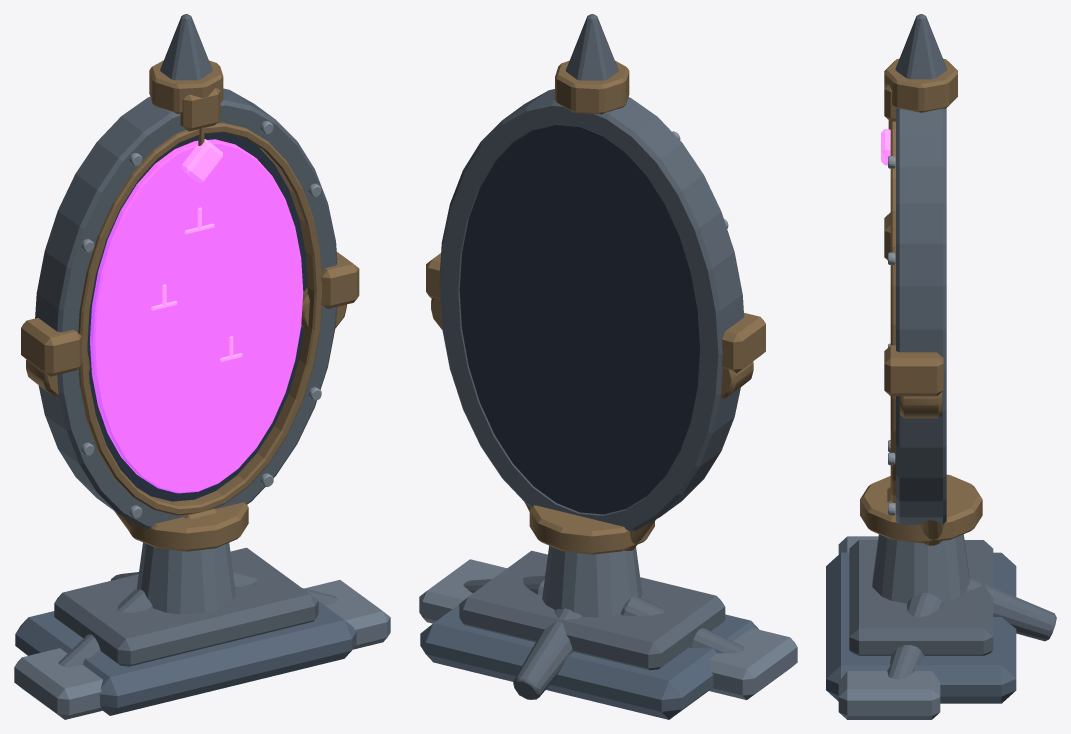
The model's file is mirror_lock.glb.
The picture shows the model from 3 angles, left to right: view 1: azimuth 30°, elevation 25°; view 2: azimuth 150°, elevation 25°; view 3: azimuth 270°, elevation 25°; orthographic projection. The views are drawn at different scales.
Parts seen in each view (by area): view 1: MirrorLock_Mirror_Violet_Surface, MirrorLock_Iron_Cold_Forged, MirrorLock_Bronze_Aged, MirrorLock_Slate_BlueBlack, MirrorLock_Slate_Worn, MirrorLock_Recess_Midnight, MirrorLock_Veil_Amethyst, MirrorLock_Slate_Pale_Edges; view 2: MirrorLock_Recess_Midnight, MirrorLock_Iron_Cold_Forged, MirrorLock_Slate_BlueBlack, MirrorLock_Slate_Worn, MirrorLock_Bronze_Aged; view 3: MirrorLock_Iron_Cold_Forged, MirrorLock_Bronze_Aged, MirrorLock_Slate_Worn, MirrorLock_Slate_BlueBlack, MirrorLock_Slate_Pale_Edges.
Part boxes in pixels (x1,y1,x2,y2): MirrorLock_Mirror_Violet_Surface: (90, 139, 303, 493); MirrorLock_Iron_Cold_Forged: (35, 14, 337, 667); MirrorLock_Bronze_Aged: (21, 60, 359, 551); MirrorLock_Slate_BlueBlack: (15, 601, 356, 715); MirrorLock_Slate_Worn: (14, 542, 390, 719); MirrorLock_Recess_Midnight: (87, 133, 307, 501); MirrorLock_Veil_Amethyst: (151, 139, 242, 362); MirrorLock_Slate_Pale_Edges: (81, 121, 321, 518); MirrorLock_Recess_Midnight: (459, 125, 699, 514); MirrorLock_Iron_Cold_Forged: (439, 14, 744, 699); MirrorLock_Slate_BlueBlack: (420, 604, 758, 719); MirrorLock_Slate_Worn: (419, 545, 797, 699); MirrorLock_Bronze_Aged: (426, 60, 765, 554); MirrorLock_Iron_Cold_Forged: (849, 14, 1056, 679); MirrorLock_Bronze_Aged: (860, 58, 982, 545); MirrorLock_Slate_Worn: (838, 534, 969, 719); MirrorLock_Slate_BlueBlack: (826, 552, 1016, 703); MirrorLock_Slate_Pale_Edges: (888, 156, 895, 515).
Bounding box in the file's own units: 1.79 × 3.3 × 1.09.
